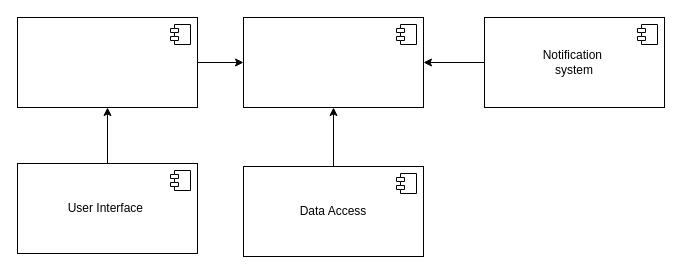
Image size: 682x274. Some labels were removed from this diagram. Here are the shapes that lost their labels. From the top down, the centre of each, then its label:
the point at 107,62: Controller
the point at 333,62: Business Logic
